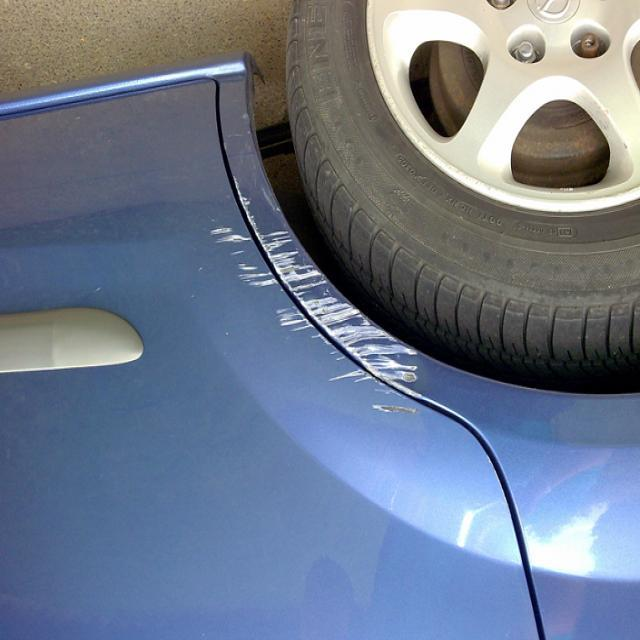scratch: (188, 198, 422, 418)
